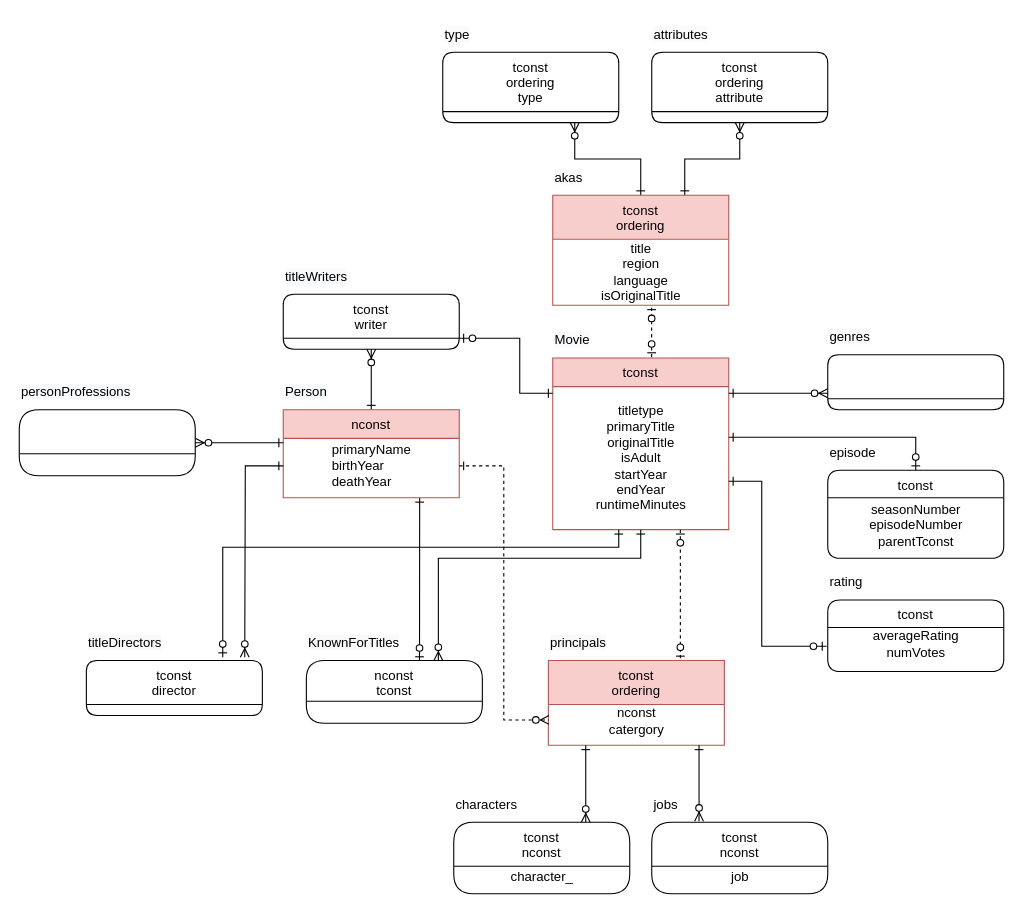
The diagram is 1023 pixels wide and 913 high, and some of its shapes have lost their labels. The centre of each missing label's shape, as x and y in pixels:
"nconst profession" goes at (x=106, y=442).
"tconst genre" goes at (x=915, y=382).
